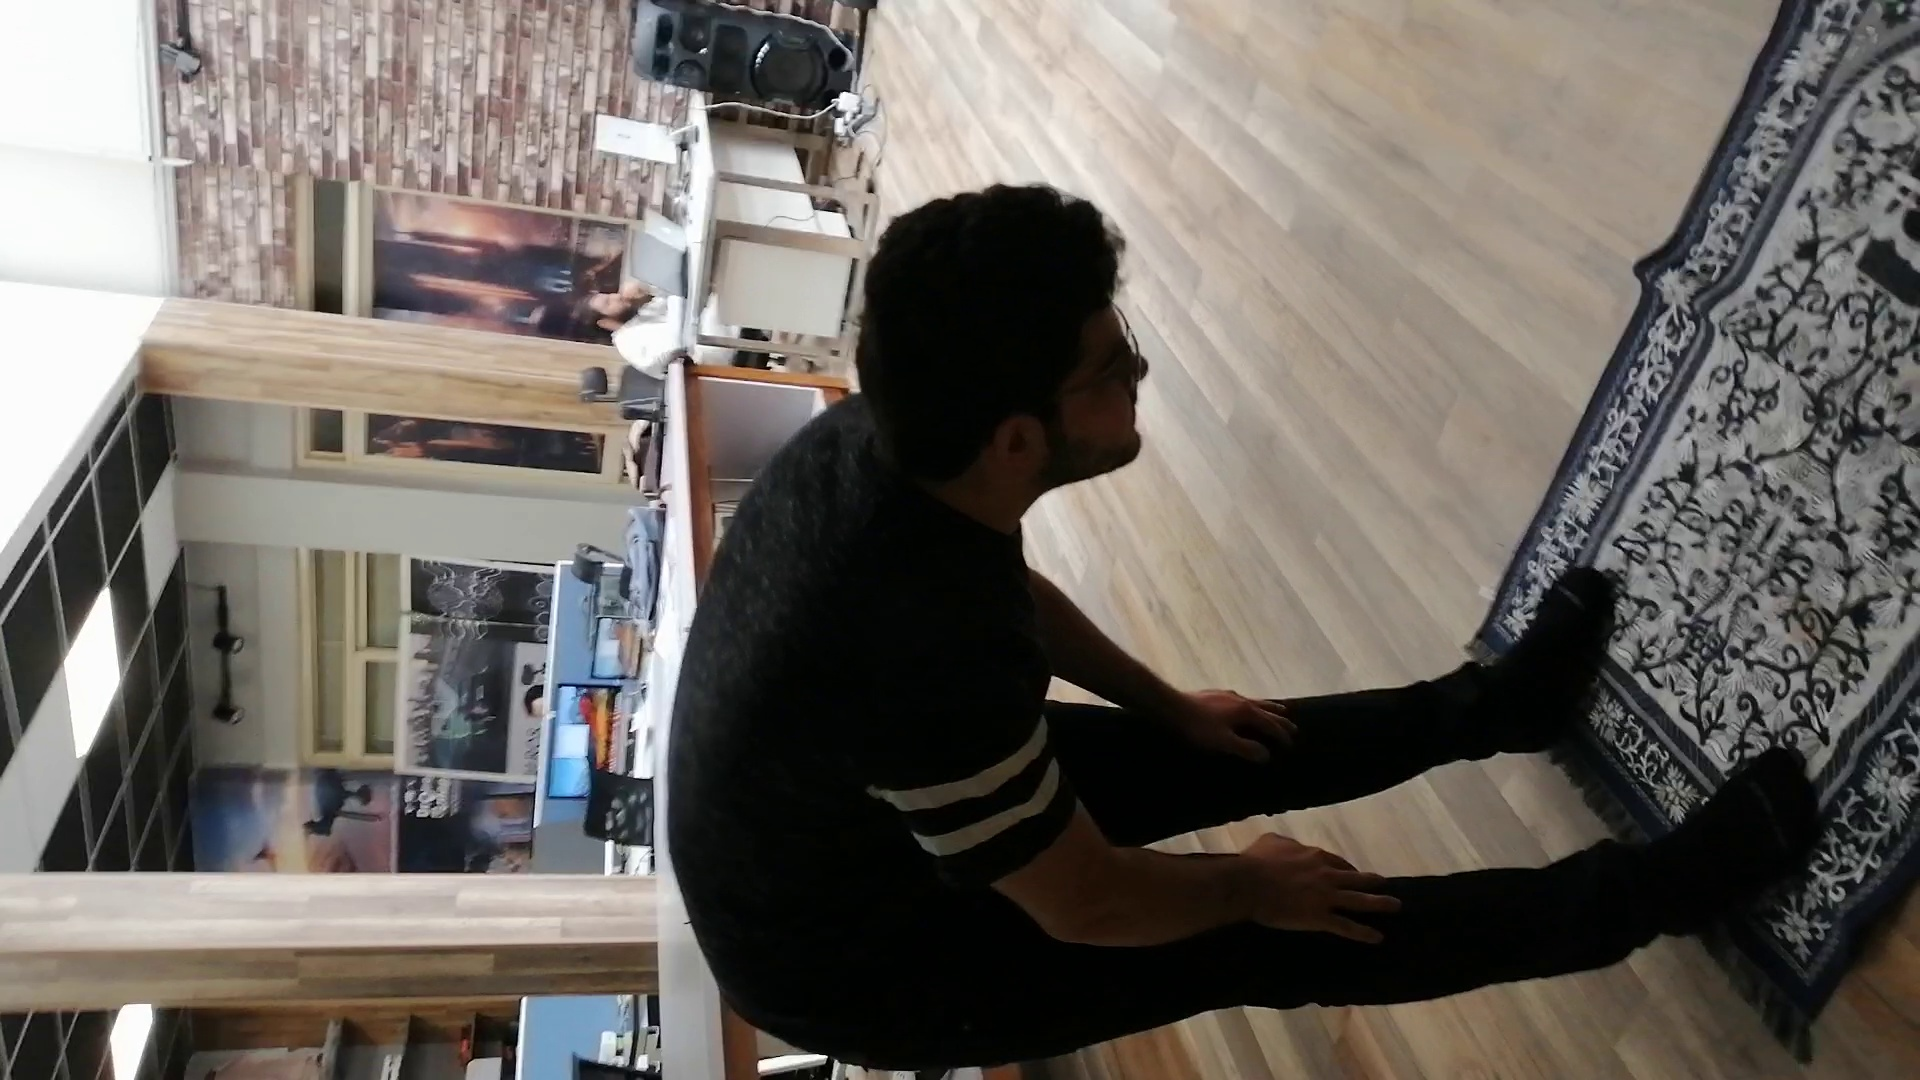ruku: (378, 146, 1891, 1048)
